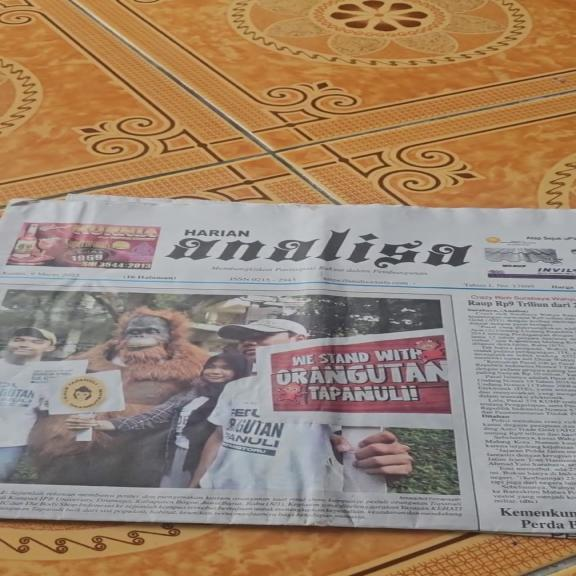Kertas: (0, 200, 564, 523)
